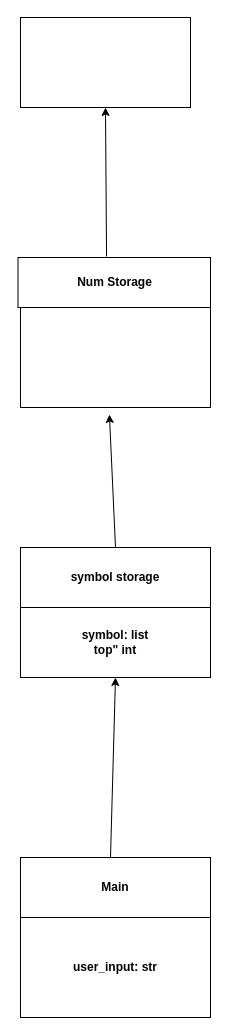
Some shapes in this 228 by 1035 pixel diagram are drawn without their labels. Each missing label, with the centre of its shape:
"-number: list -top: int" goes at (x=115, y=357).
"Storage Base" goes at (x=105, y=62).
